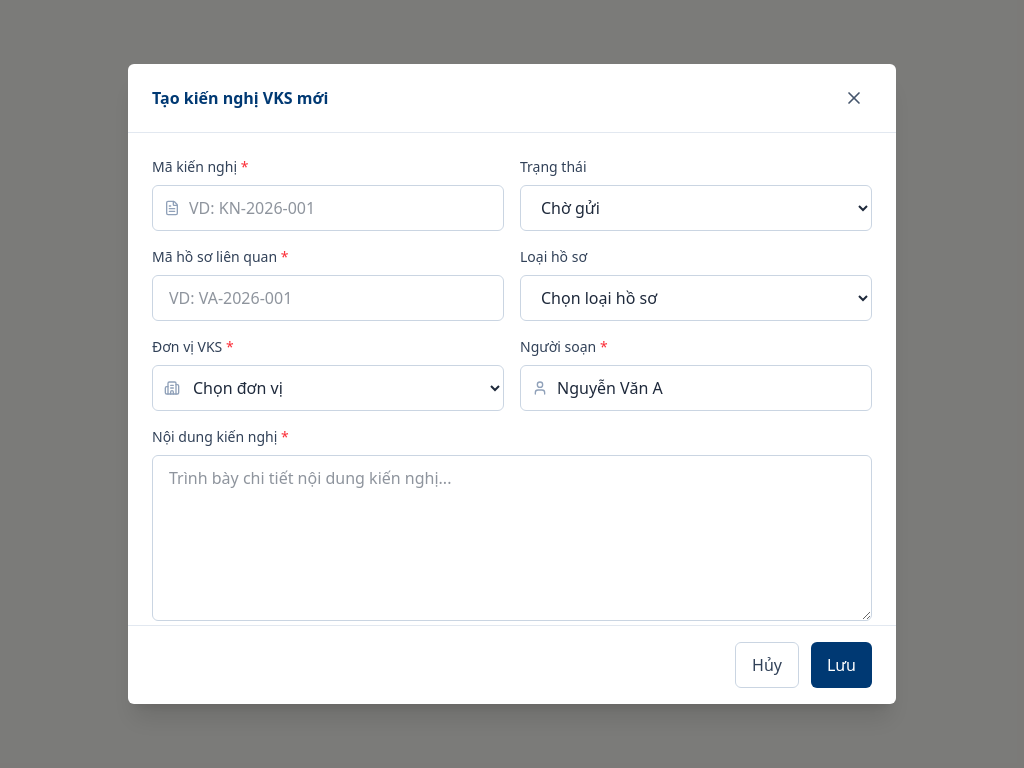
Scenario: Lưu kiến nghị VKS thành công › nút bị khoá và đổi nhãn trong lúc đang gửi
Step 1. Type "abc" into the field with placeholder "VD: KN-2026-001" → (328, 208), box [152, 185, 504, 231]
Step 2. Type "abc" into the field with placeholder "VD: VA-2026-001" → (328, 298), box [152, 275, 504, 321]
Step 3. Replace the text in the field below "Người soạn" with "abc" → (696, 388), box [520, 365, 872, 411]
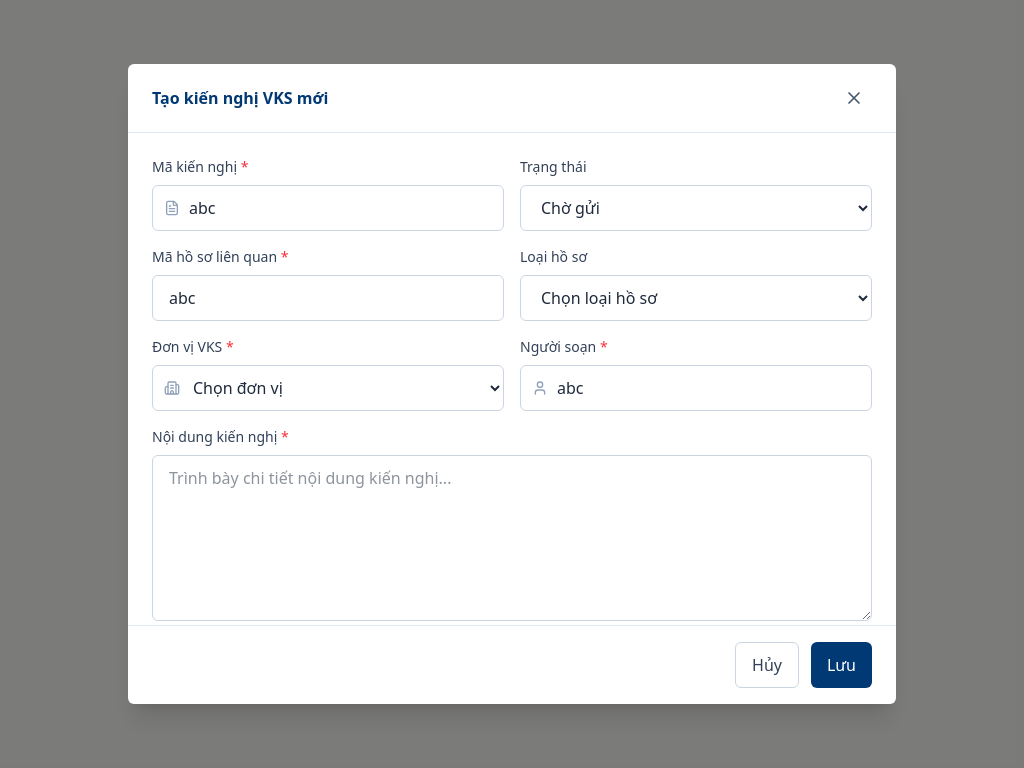
Step 4. Type "abc" into the text box → (512, 538), box [152, 455, 872, 621]
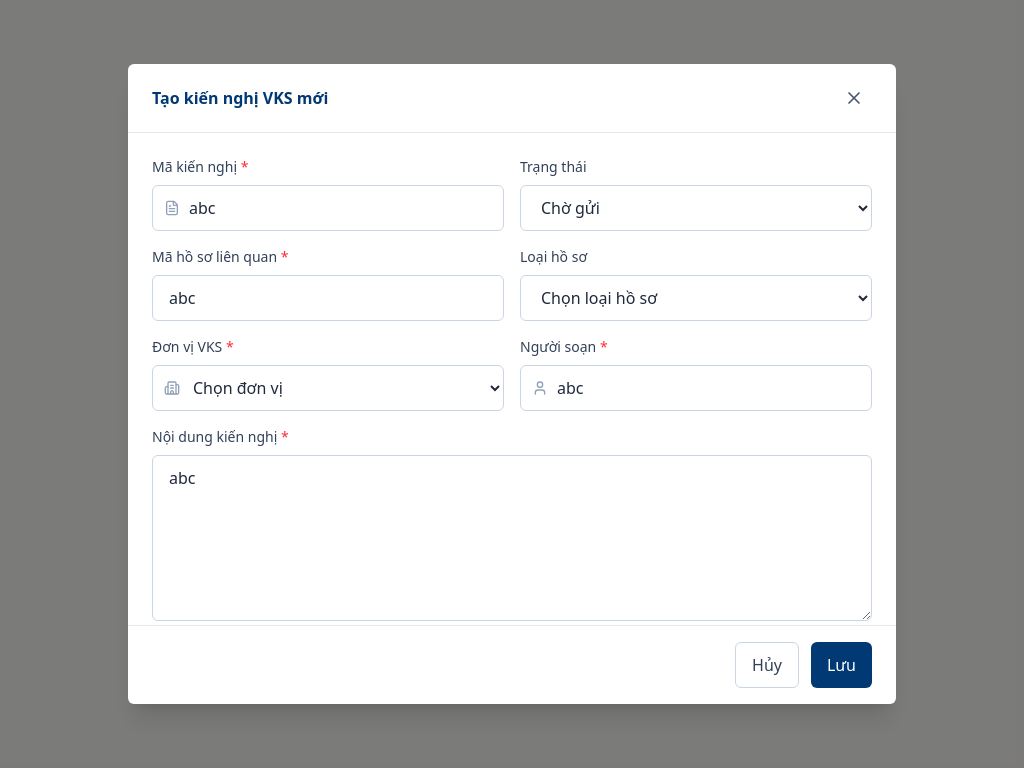
Step 5. Select "Đã gửi" in the dropdown below "Trạng thái" → (696, 208), box [520, 185, 872, 231]
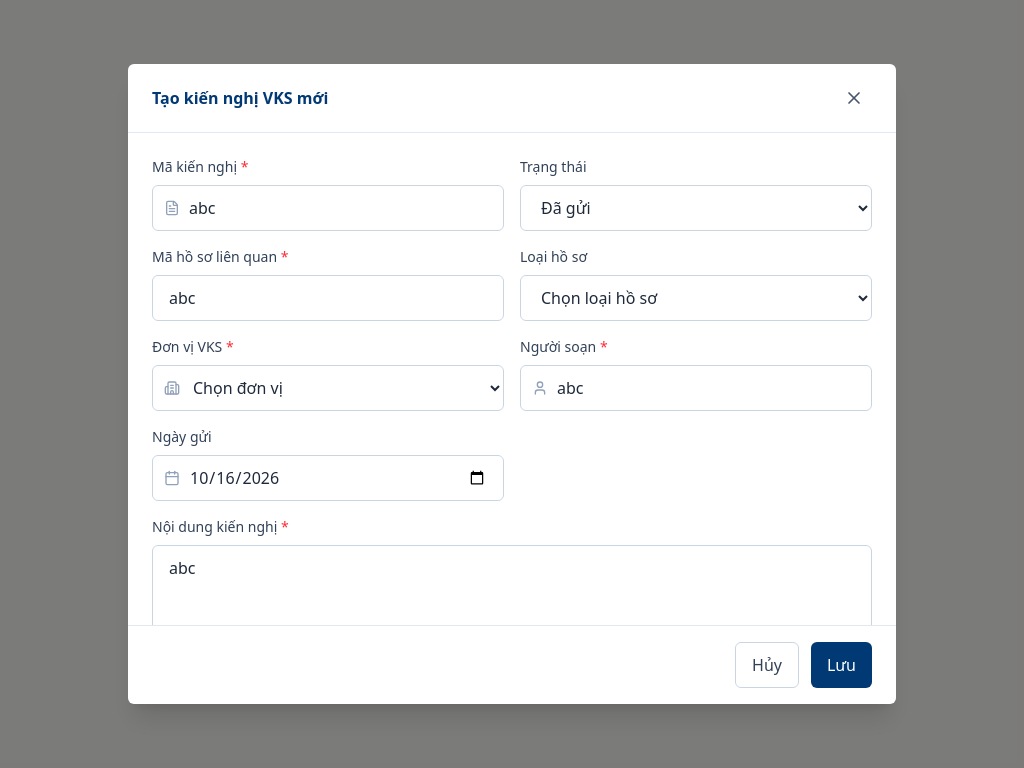
Step 6. Select "Vụ án" in the dropdown below "Loại hồ sơ" → (696, 298), box [520, 275, 872, 321]
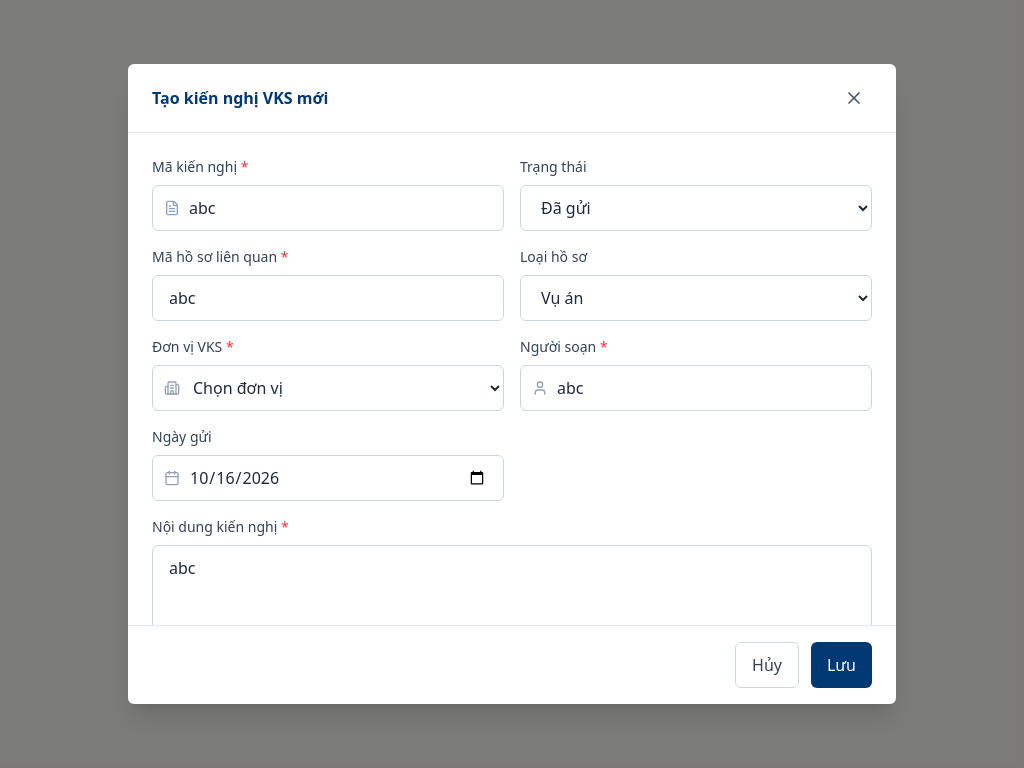
Step 7. Select "Viện Kiểm sát Quận 1" in the dropdown below "Đơn vị VKS" → (328, 388), box [152, 365, 504, 411]
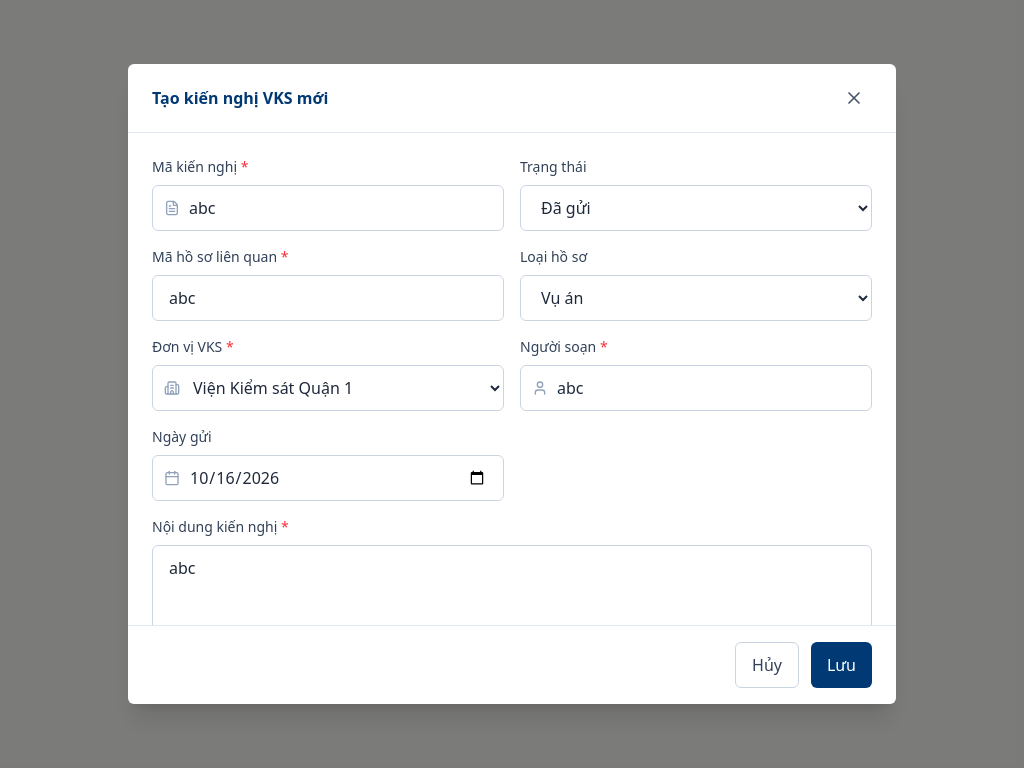
Step 8. Click the button with test id "proposal-save" → (841, 665), box [811, 642, 872, 688]
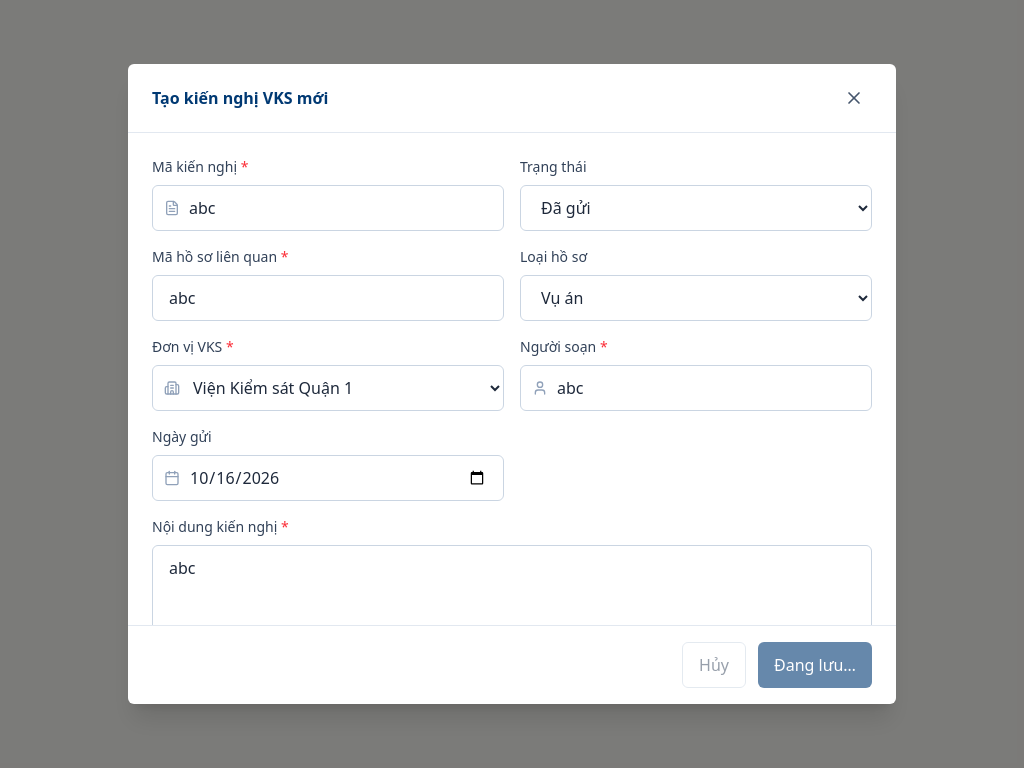
Now the button with test id "proposal-save" is disabled, box [758, 642, 872, 688]
Now the button with test id "proposal-save" shows "Đang lưu", box [758, 642, 872, 688]
